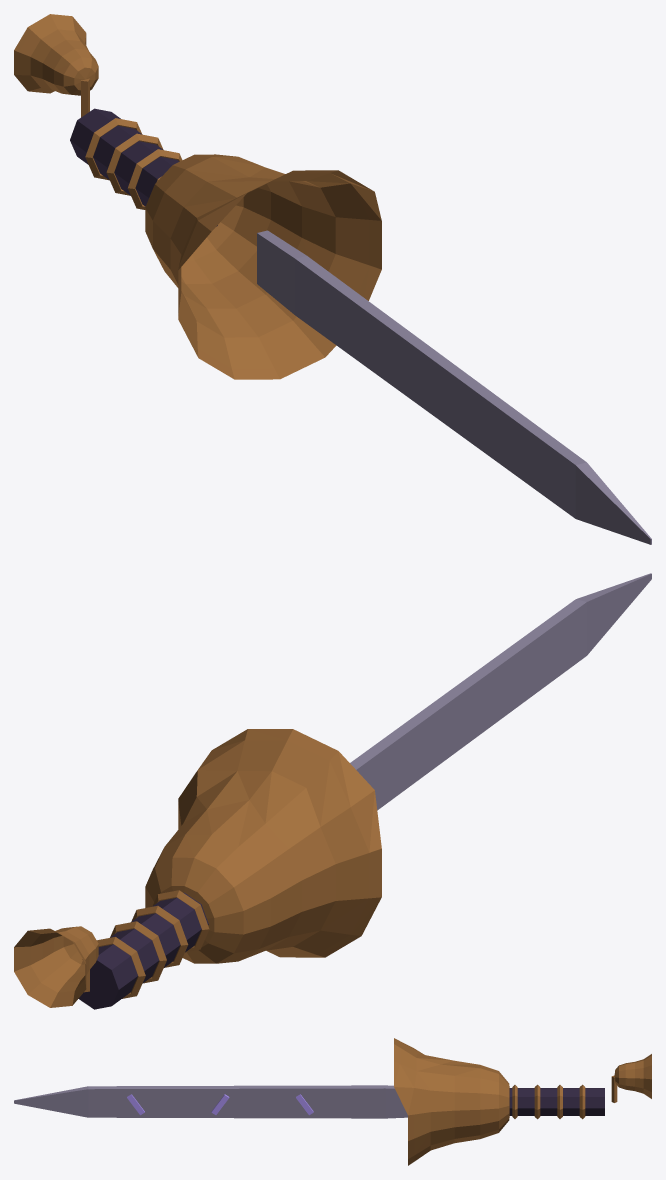
File: Espada_CampanaRota.obj
3 views of the same model, one above another, from view 1: azimuth 30°, elevation 25°; view 2: azimuth 150°, elevation 25°; view 3: azimuth 270°, elevation 25° (orthographic). The views are drawn at different scales.
Visible parts, largest first — view 1: Espada_CampanaRota; view 2: Espada_CampanaRota; view 3: Espada_CampanaRota.
Part boxes in pixels (bbox=[...]): Espada_CampanaRota: bbox=[14, 14, 651, 544]; Espada_CampanaRota: bbox=[14, 573, 651, 1009]; Espada_CampanaRota: bbox=[14, 1038, 651, 1165].
Size of the model in its own units: 26.6 by 27.28 by 136.
